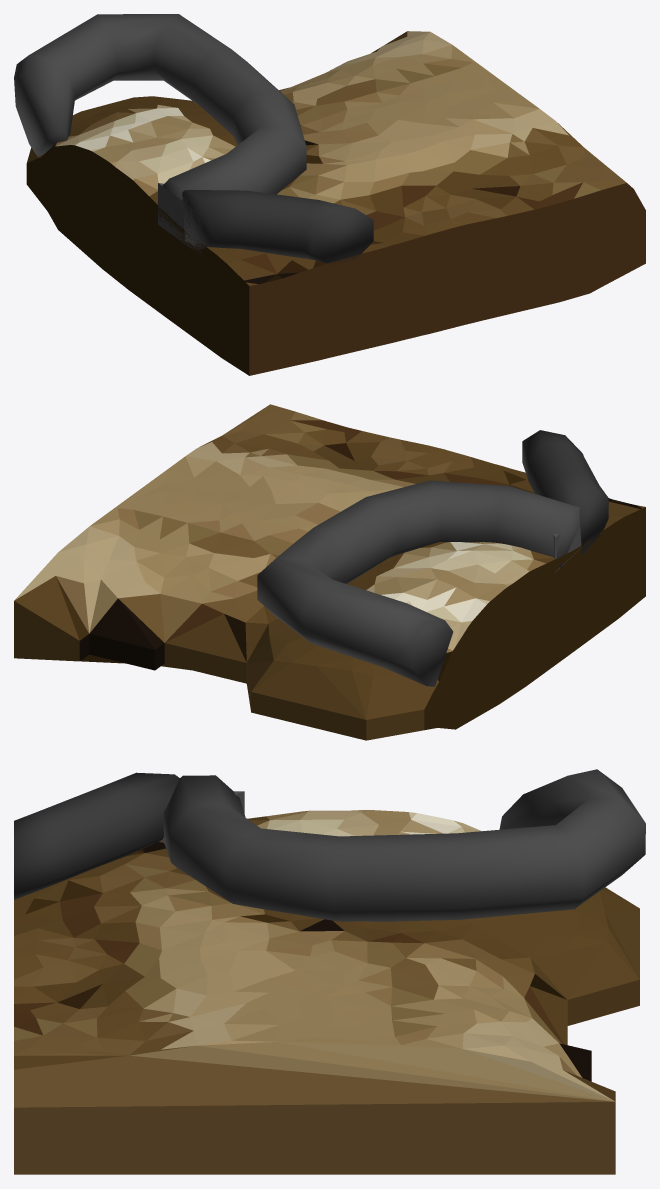
File: newsh-caret-81.glb
3 views of the same model, one above another, from view 1: azimuth 30°, elevation 25°; view 2: azimuth 150°, elevation 25°; view 3: azimuth 270°, elevation 25° (orthographic). The views are drawn at different scales.
Visible parts, largest first — view 1: newsh-caret-81; view 2: newsh-caret-81; view 3: newsh-caret-81.
Boxes of the visible parts, x1=… form: newsh-caret-81: x1=14, y1=14, x2=645, y2=375; newsh-caret-81: x1=14, y1=404, x2=645, y2=740; newsh-caret-81: x1=14, y1=769, x2=645, y2=1174.
Size of the model in its own units: 2 by 0.7985 by 2.19.
